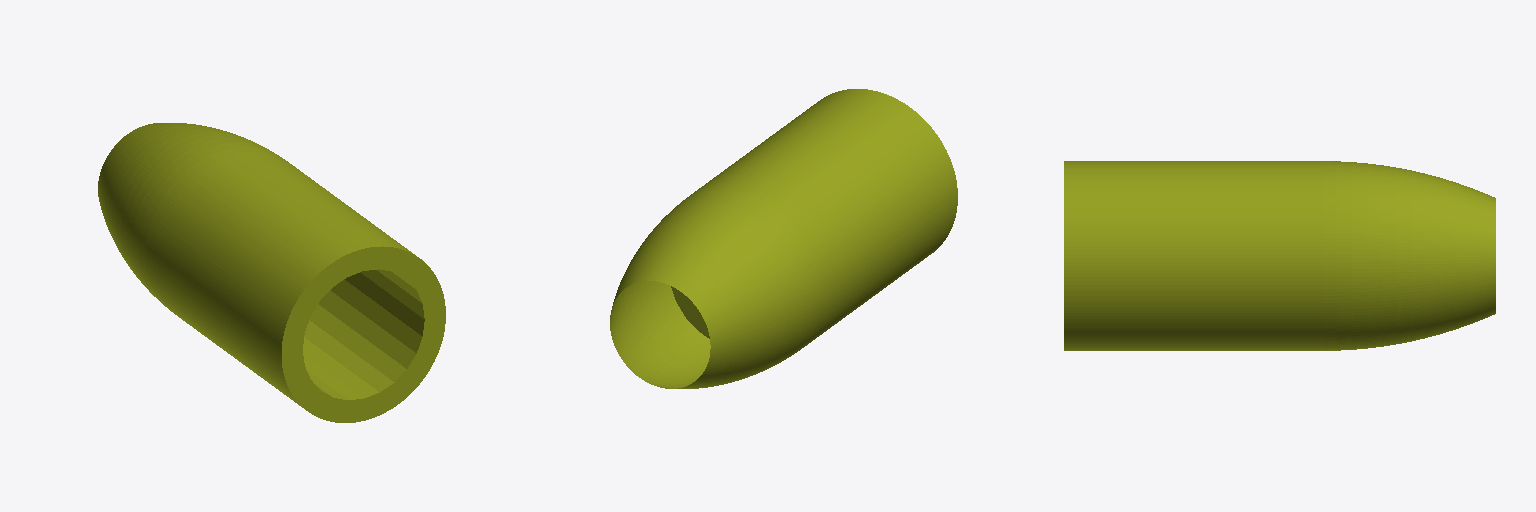
Rendered from model_align.obj.
3 renders of one model, left to right at view 1: azimuth 30°, elevation 25°; view 2: azimuth 150°, elevation 25°; view 3: azimuth 270°, elevation 25°, orthographic.
Parts seen in each view (by area): view 1: mesh1_mesh1-geometry; view 2: mesh1_mesh1-geometry; view 3: mesh1_mesh1-geometry.
Boxes of the visible parts, box(x1,y1,x2,y2) form: mesh1_mesh1-geometry: box(98, 123, 445, 422); mesh1_mesh1-geometry: box(610, 89, 957, 388); mesh1_mesh1-geometry: box(1064, 161, 1495, 350).
Size of the model in its own units: 0.0758 by 0.0758 by 0.172.